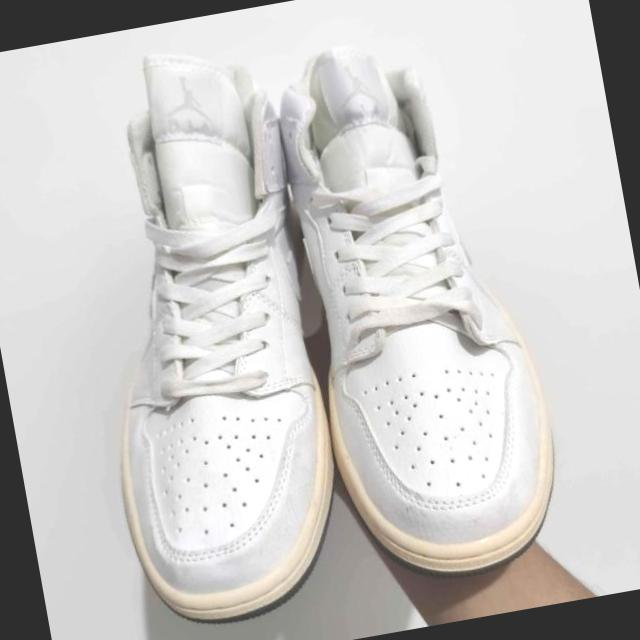nike_fake_jordan: (36, 36, 362, 639), (257, 21, 568, 596)
